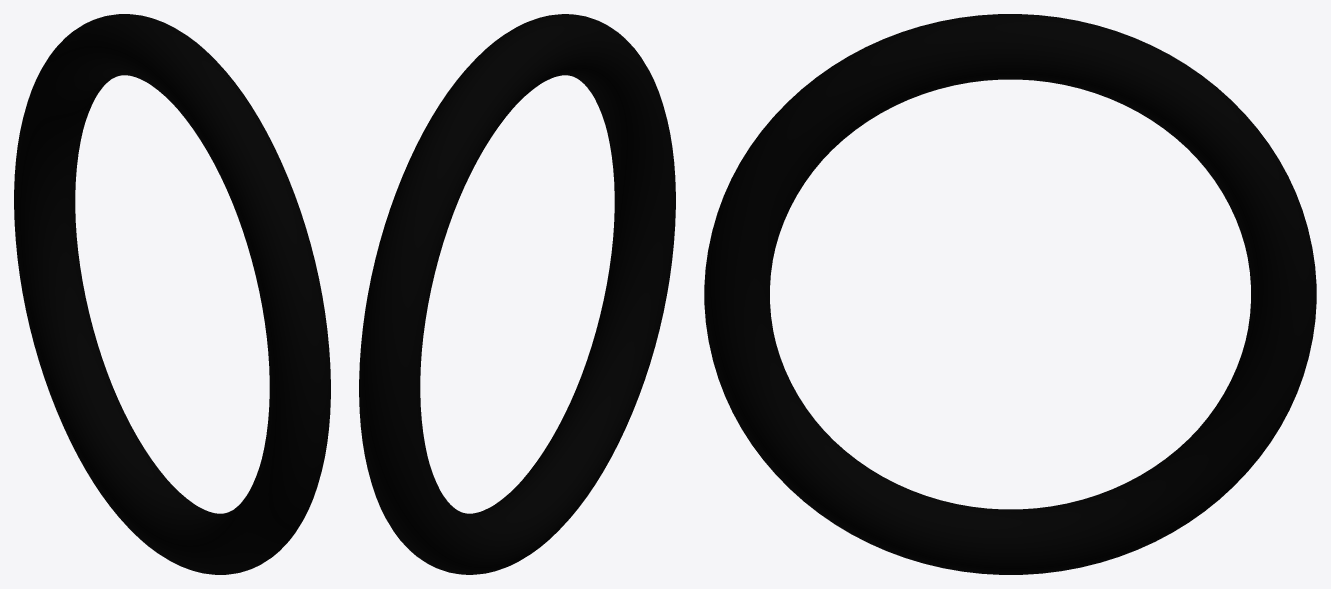
File: FrontWheelTube.fbx
The picture shows the model from 3 angles, left to right: view 1: azimuth 30°, elevation 25°; view 2: azimuth 150°, elevation 25°; view 3: azimuth 270°, elevation 25°; orthographic projection. The views are drawn at different scales.
Parts seen in each view (by area): view 1: tire_low_Torus.007; view 2: tire_low_Torus.007; view 3: tire_low_Torus.007.
Part boxes in pixels (x1,y1,x2,y2): tire_low_Torus.007: [14, 14, 330, 574]; tire_low_Torus.007: [359, 14, 675, 574]; tire_low_Torus.007: [704, 14, 1316, 574].
Bounding box in the file's own units: 18 × 168 × 168.
Materials: 1 (1 with a texture image).
